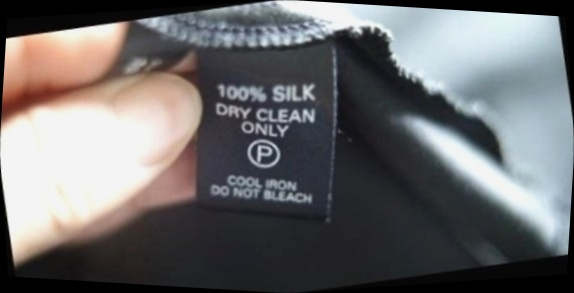dry_clean_any_solvent_except_trichloroethylene: (241, 130, 289, 176)
